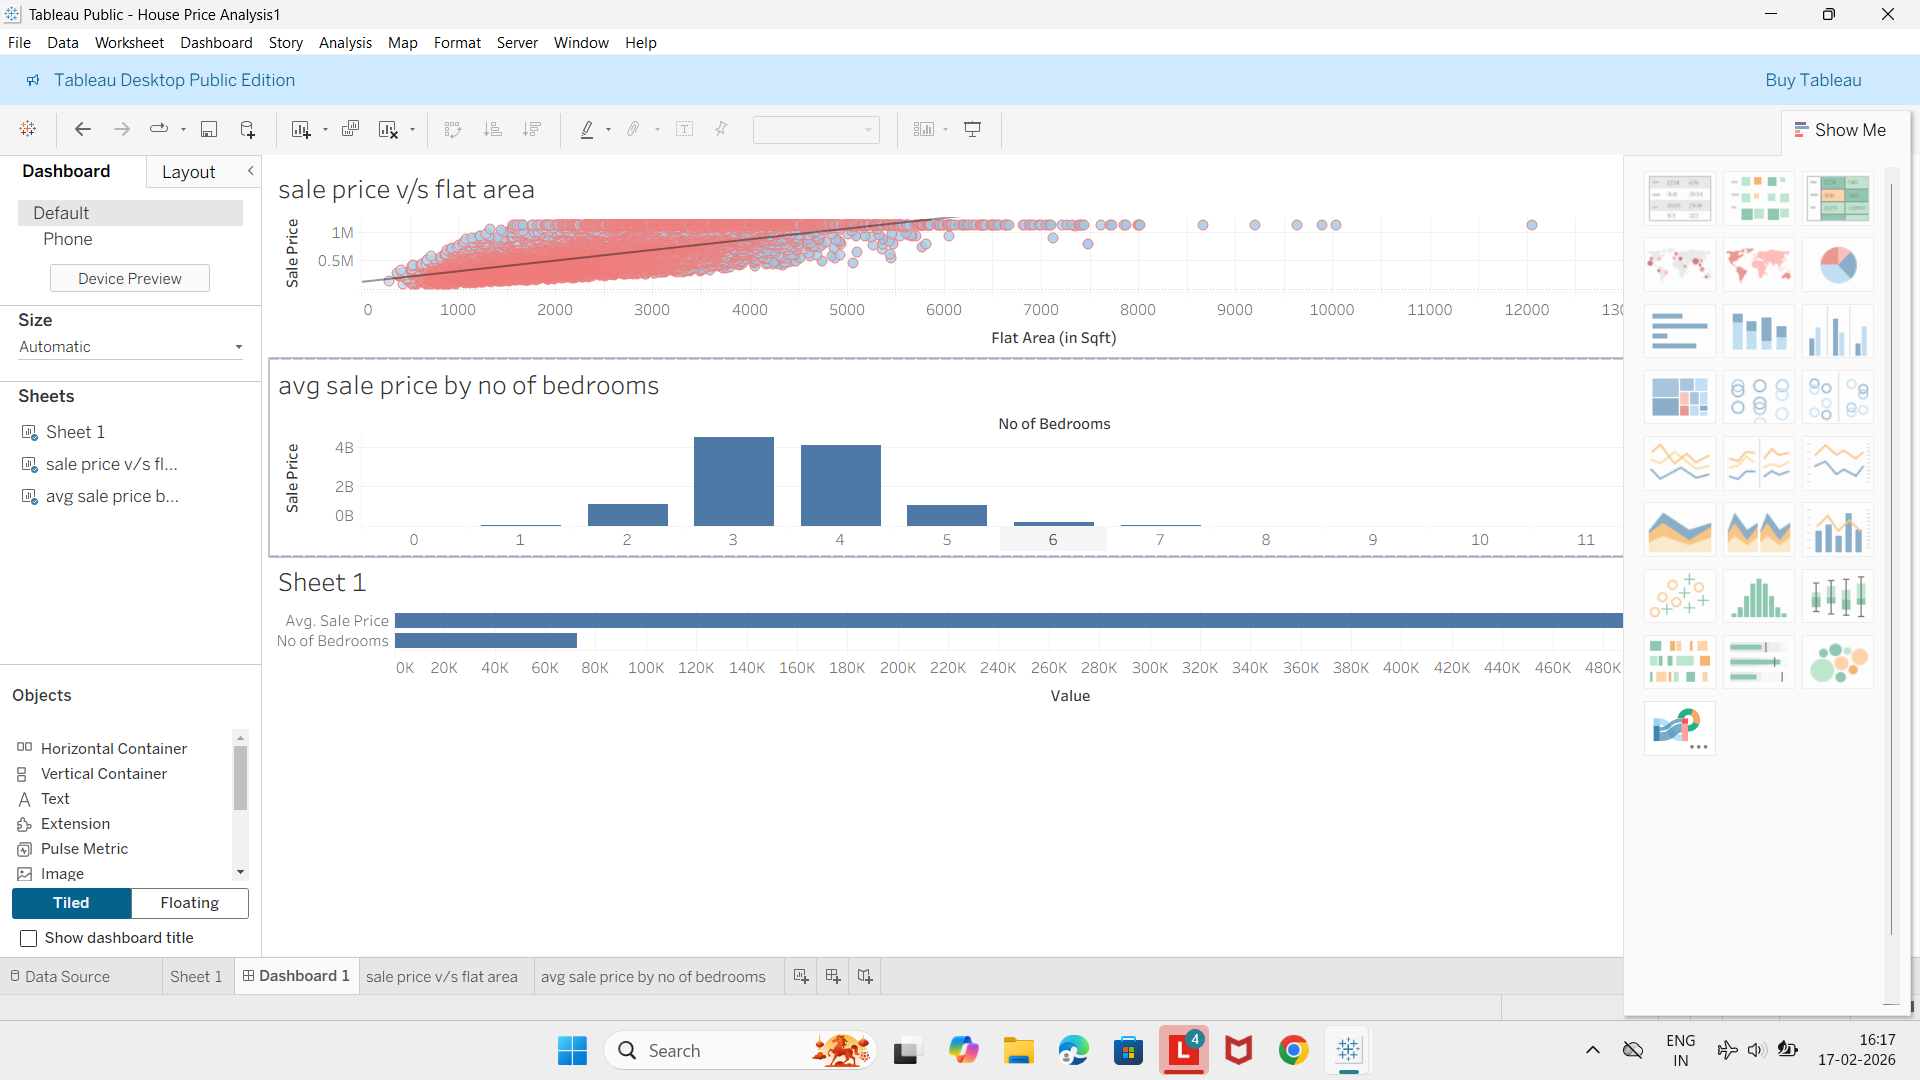

The dashboard page shown, as its layout file describes it:
{"tool":"tableau","page":{"name":"Dashboard 1","canvas":[1000,1000],"units":"permille","ordinal":0},"visuals":[{"type":"worksheet","title":"sale price v/s flat area","mark":"Circle","rows":["Sale_Price"],"cols":["Flat Area (in Sqft)"],"box":[4.8,10,893.8,245]},{"type":"legend","title":"sale price v/s flat area","param":"[federated.1ozerh81xbo4p91ddg6zz1wn2h0p].[sum:No of Bedrooms:qk]","box":[898.6,10,96.6,91.1]},{"type":"worksheet","title":"avg sale price by no of bedrooms","mark":"Bar","rows":["Sale_Price"],"cols":["No of Bedrooms"],"box":[4.8,255,893.8,245]},{"type":"worksheet","title":"Sheet 1","mark":"Automatic","box":[4.8,500,893.8,490]}]}

Visuals, with their boxes on the dashboard's canvas, which has no fixed pixel size, in thousandths of its width and height (x1, y1, x2, y2). These are canvas units, not pixel positions in the 1920x1080 screenshot, which may show the page scaled, cropped or inside an application window:
"sale price v/s flat area" worksheet (Circle marks): crop(5, 10, 899, 255)
"sale price v/s flat area" legend: crop(899, 10, 995, 101)
"avg sale price by no of bedrooms" worksheet (Bar marks): crop(5, 255, 899, 500)
"Sheet 1" worksheet: crop(5, 500, 899, 990)
